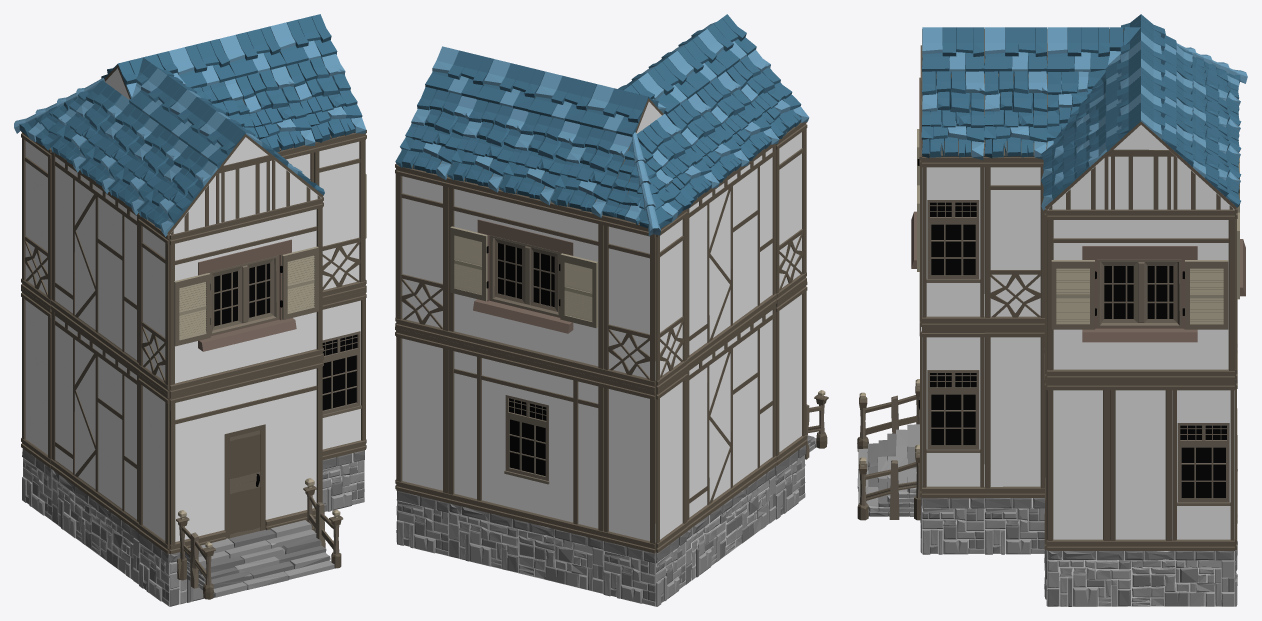
Rendered from House_12_Full.glb.
3 views of the same model, side by side, from view 1: azimuth 30°, elevation 25°; view 2: azimuth 150°, elevation 25°; view 3: azimuth 270°, elevation 25° (orthographic). The views are drawn at different scales.
Visible parts, largest first — view 1: WINDOW_06_2, DOOR_05_2, WALL_05_3, WALL_05_2, STAIRS_03_2, WALL_04_4, WINDOW_04_4, WALL_04_8, WALL_03_10, WALL_03_9, WALL_04_7, FOUNDATION_02_19 (+26 smaller); view 2: WINDOW_06_4, WINDOW_03_2, WALL_05_3, WALL_05_2, WALL_04_5, WALL_03_8, WALL_03_7, WALL_04_6, FOUNDATION_02_18, WALL_03_9, WALL_04_7, WALL_04_8 (+23 smaller); view 3: WINDOW_06_3, WINDOW_04_3, WINDOW_04_6, WINDOW_04_5, WALL_03_6, WALL_03_5, FOUNDATION_02_17, WALL_03_3, WALL_04_3, STAIRS_03_2, ROOF_base_4, ROOF_base_3 (+29 smaller).
Boxes of the visible parts, <box> form: WINDOW_06_2: <box>169,198,322,395</box>; DOOR_05_2: <box>169,358,322,554</box>; WALL_05_3: <box>50,150,139,372</box>; WALL_05_2: <box>50,310,139,531</box>; STAIRS_03_2: <box>176,478,343,599</box>; WALL_04_4: <box>314,132,365,300</box>; WINDOW_04_4: <box>322,290,365,460</box>; WALL_04_8: <box>138,214,169,394</box>; WALL_03_10: <box>138,374,169,554</box>; WALL_03_9: <box>21,288,51,468</box>; WALL_04_7: <box>21,131,51,308</box>; FOUNDATION_02_19: <box>52,470,140,584</box>; WINDOW_06_4: <box>447,177,603,378</box>; WINDOW_03_2: <box>447,341,603,540</box>; WALL_05_3: <box>686,144,776,368</box>; WALL_05_2: <box>686,304,776,530</box>; WALL_04_5: <box>396,165,448,340</box>; WALL_03_8: <box>603,378,655,553</box>; WALL_03_7: <box>396,328,448,502</box>; WALL_04_6: <box>603,215,655,390</box>; FOUNDATION_02_18: <box>449,503,604,593</box>; WALL_03_9: <box>656,369,687,552</box>; WALL_04_7: <box>655,208,687,390</box>; WALL_04_8: <box>775,122,807,303</box>; WINDOW_06_3: <box>1047,209,1234,380</box>; WINDOW_04_3: <box>922,328,984,498</box>; WINDOW_04_6: <box>922,157,984,327</box>; WINDOW_04_5: <box>1172,381,1234,550</box>; WALL_03_6: <box>1110,381,1172,550</box>; WALL_03_5: <box>1047,381,1109,550</box>; FOUNDATION_02_17: <box>1047,551,1234,606</box>; WALL_03_3: <box>984,328,1045,497</box>; WALL_04_3: <box>984,157,1045,327</box>; STAIRS_03_2: <box>857,379,921,520</box>; ROOF_base_4: <box>984,70,1047,159</box>; ROOF_base_3: <box>921,69,984,159</box>.
Size of the model in its own units: 5.31 by 8.59 by 6.24.
1 material, 1 textured.
